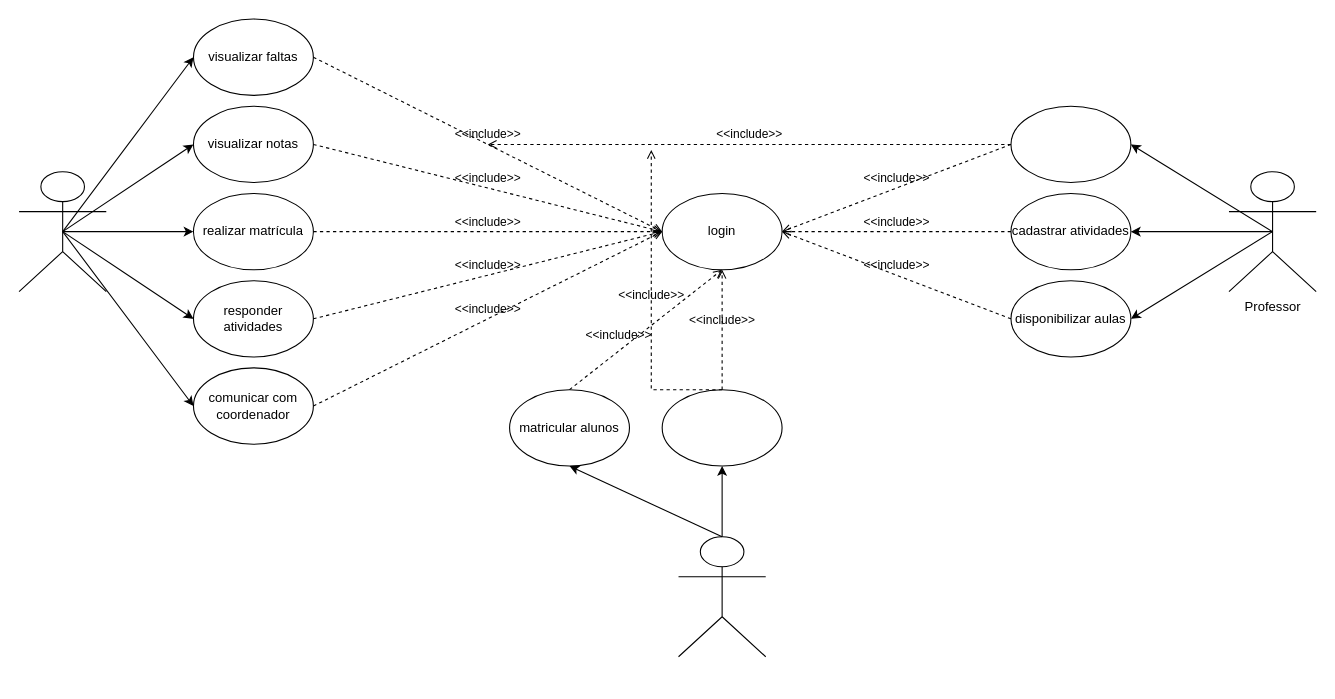
This 1335x699 diagram has some shape labels left out. The centre of each missing label's shape, as x and y in pixels:
Aluno: (x=62, y=231)
cadastrar faltas: (x=1070, y=144)
Coordenador: (x=721, y=596)
retirar faltas: (x=721, y=427)
